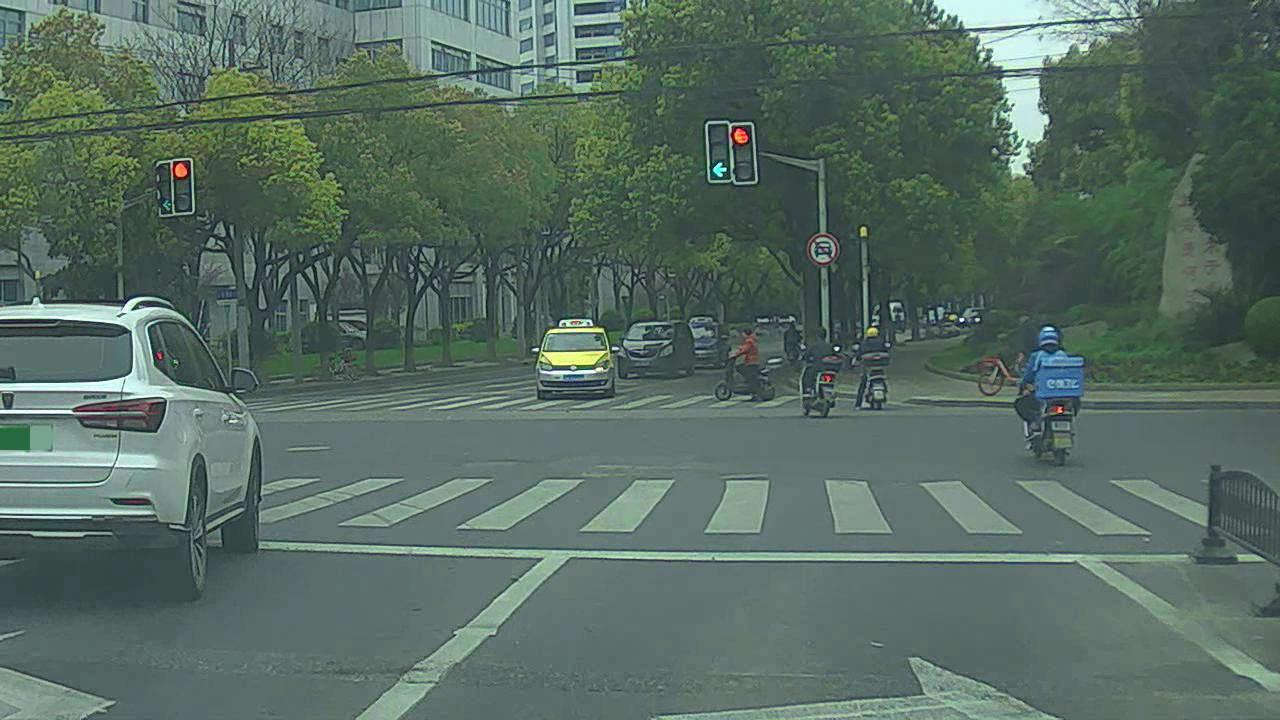traffic_light: (702, 123, 731, 181), (731, 127, 759, 180), (150, 160, 174, 216), (176, 160, 197, 209)
